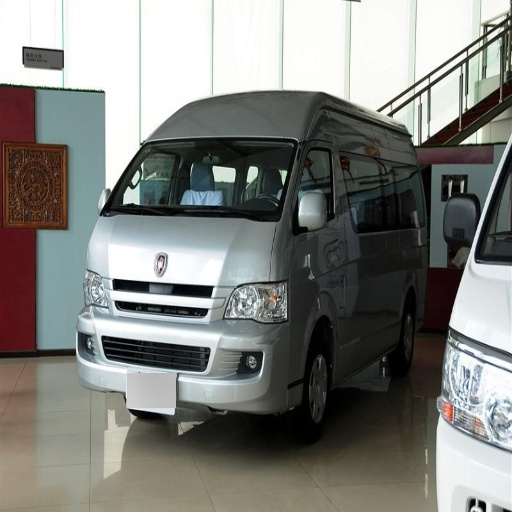front_bumper: (78, 273, 308, 420), (441, 420, 509, 511)
front_glass: (105, 138, 296, 221)
front_left_door: (295, 130, 338, 232)
front_right_light: (440, 329, 507, 442)
